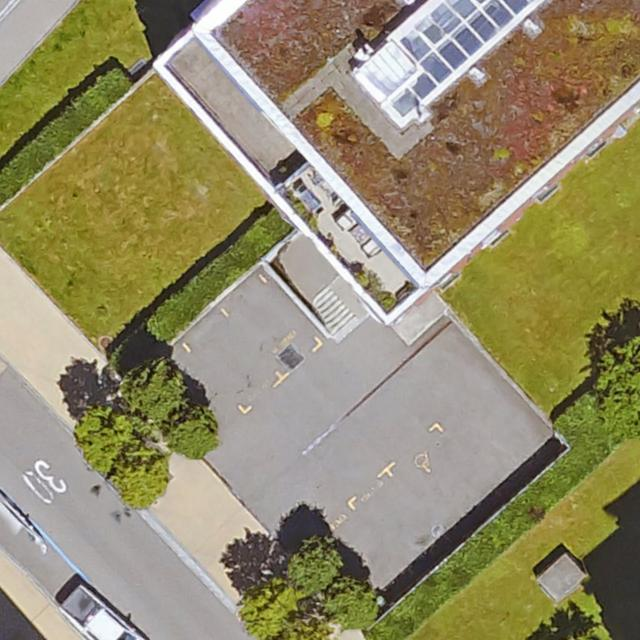tree: (115, 358, 189, 431), (593, 331, 640, 432), (75, 407, 138, 475), (283, 536, 342, 598), (113, 447, 171, 510), (239, 579, 298, 639), (323, 578, 381, 629), (166, 404, 221, 457)
